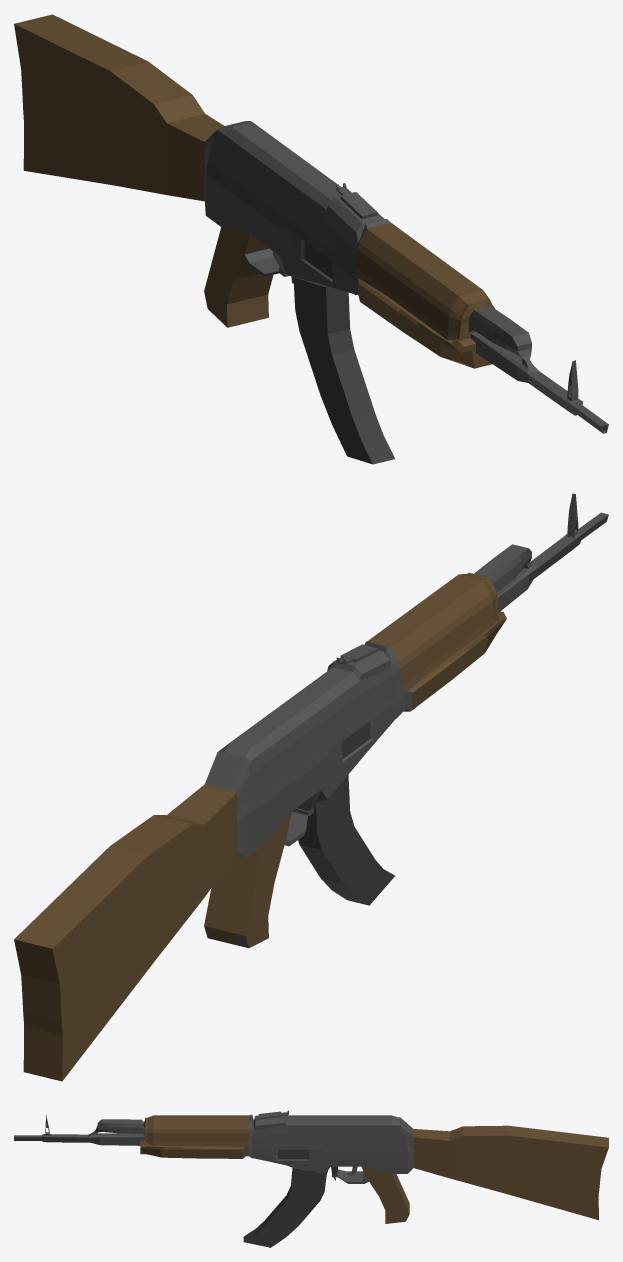
The picture shows the model from 3 angles, top to bottom: view 1: azimuth 30°, elevation 25°; view 2: azimuth 150°, elevation 25°; view 3: azimuth 270°, elevation 25°; orthographic projection. The views are drawn at different scales.
Visible parts, largest first — view 1: Cube.058; view 2: Cube.058; view 3: Cube.058.
Boxes of the visible parts, x1,y1,x2,y2 form: Cube.058: (14,14,608,464); Cube.058: (14,493,608,1081); Cube.058: (14,1110,608,1247).
Size of the model in its own units: 21.55 by 96.2 by 388.
